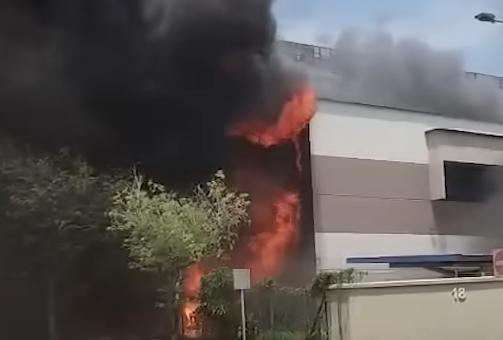fire: (178, 73, 320, 320)
smoke: (4, 0, 282, 194), (286, 36, 503, 129)
